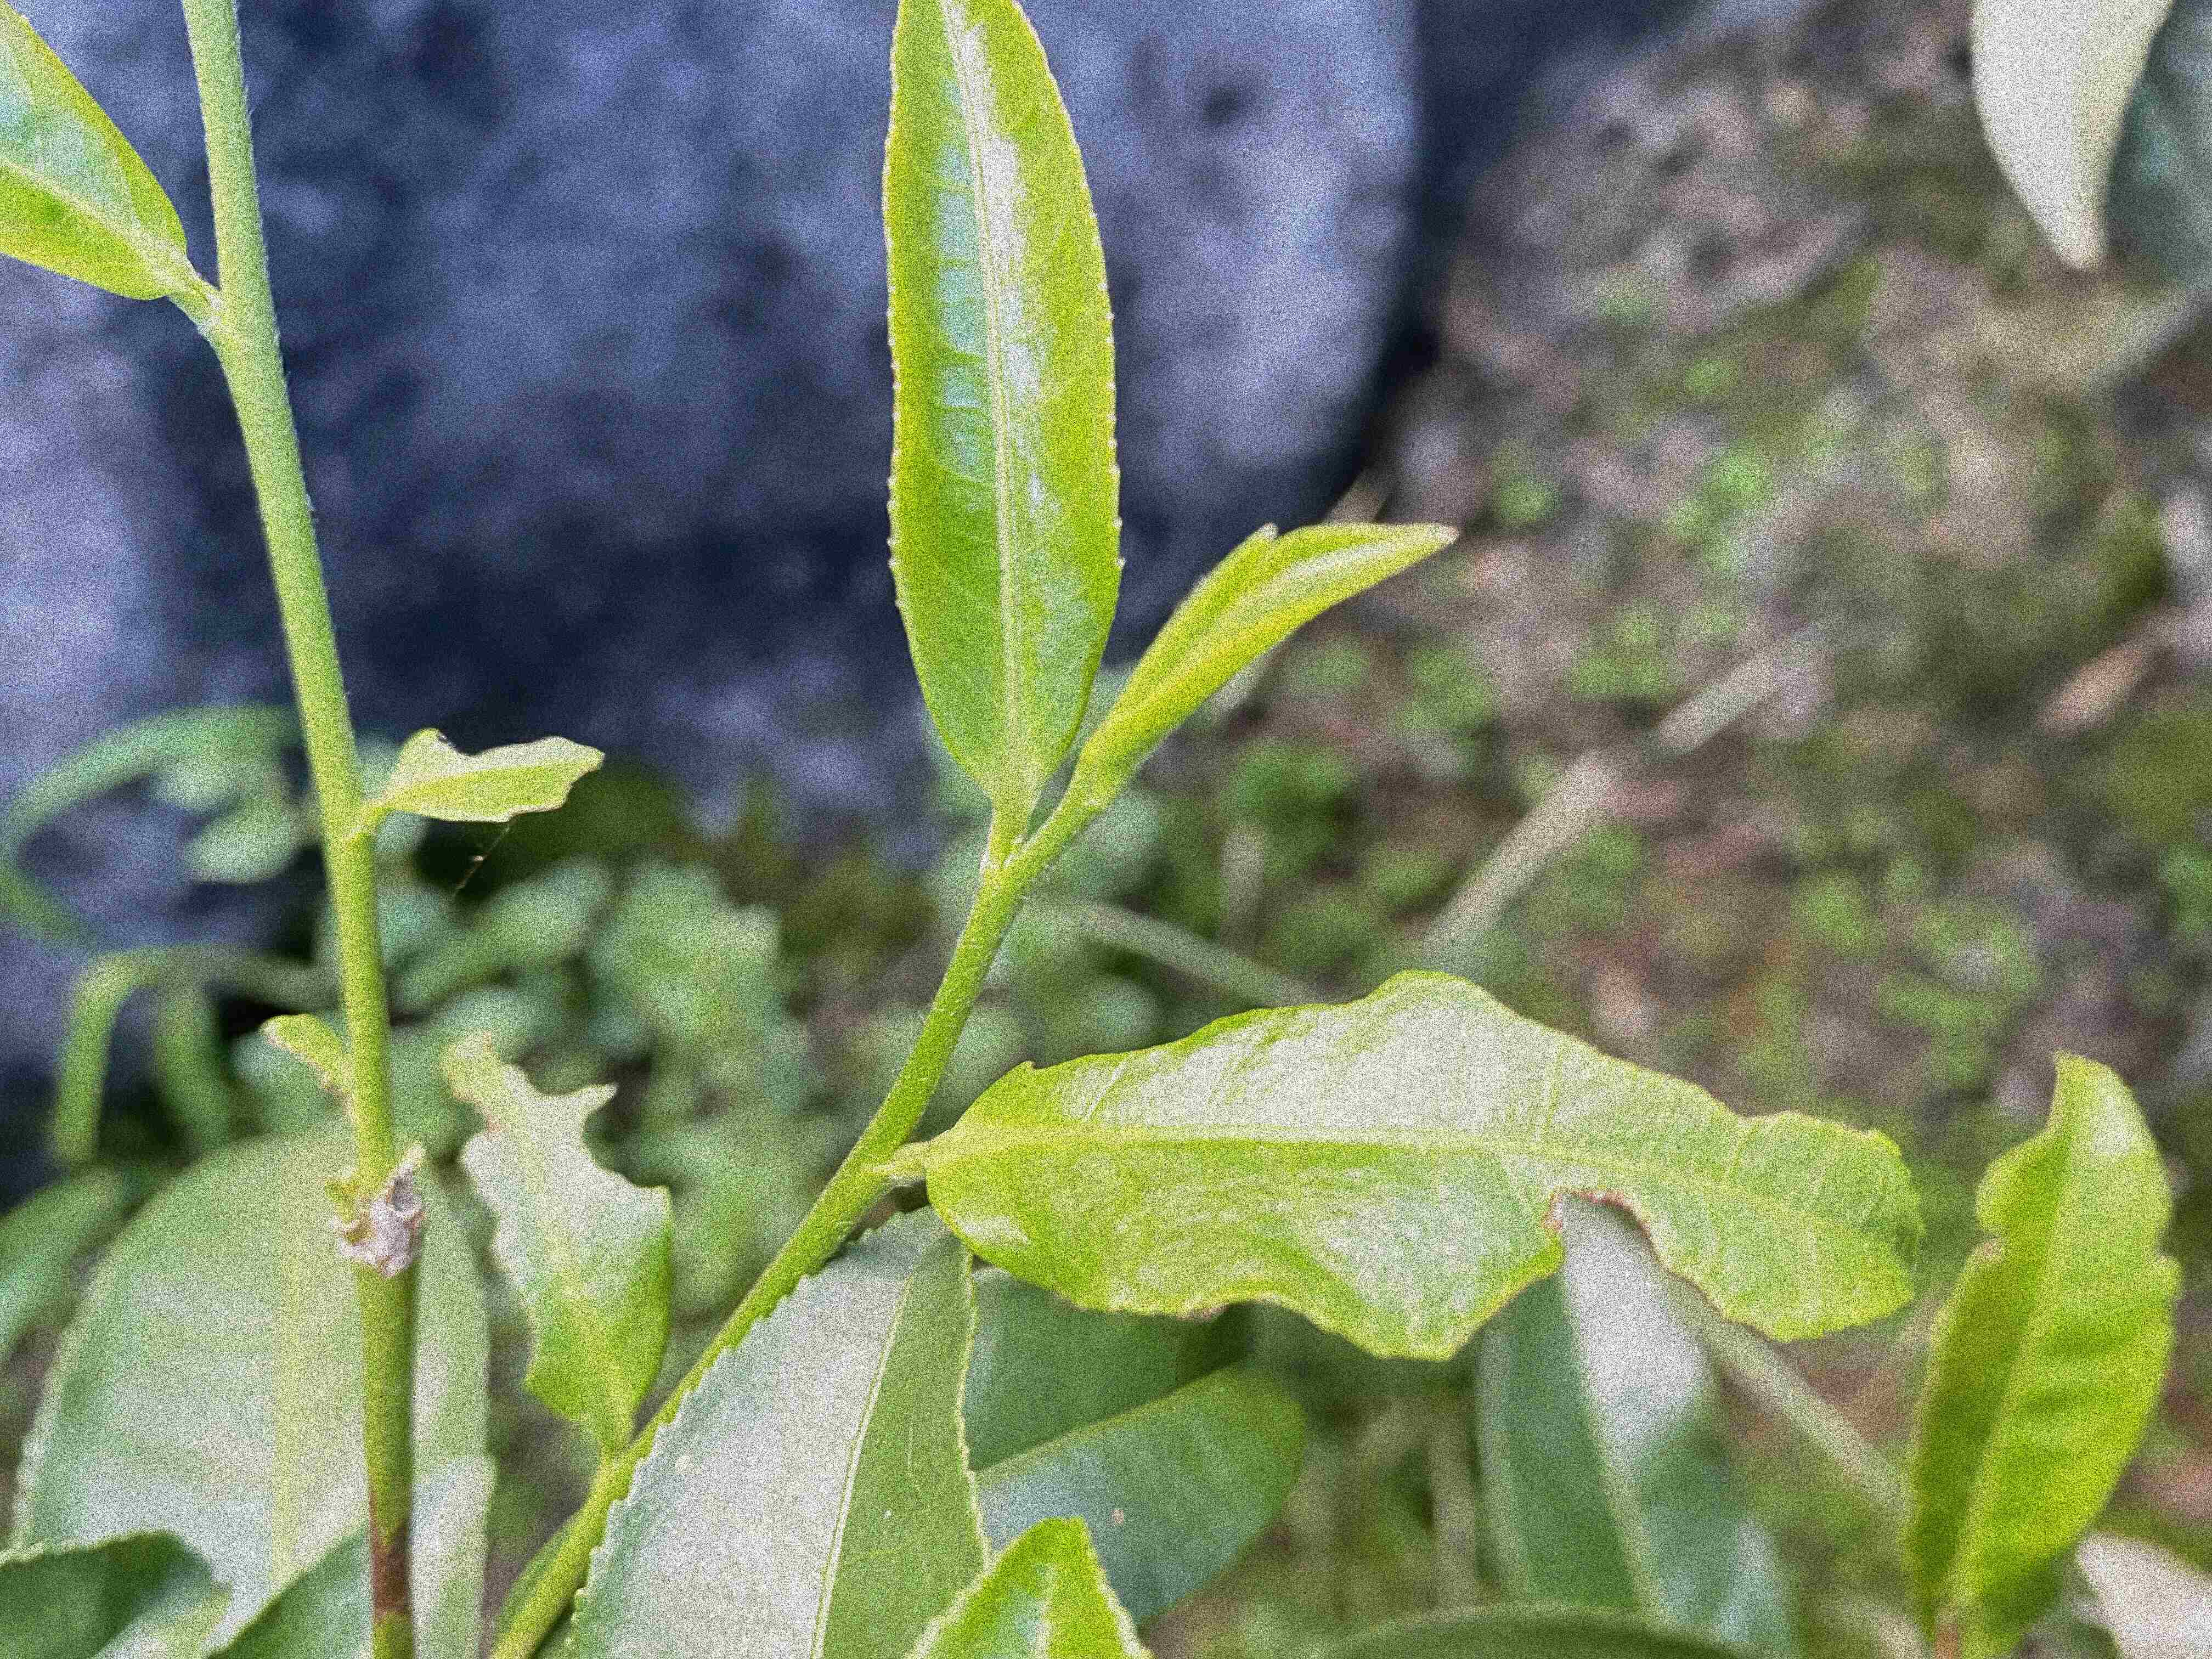chihuo_high: (932, 965, 1928, 1363), (434, 1028, 685, 1443), (374, 721, 613, 828)
healthy: (878, 0, 1130, 802)
